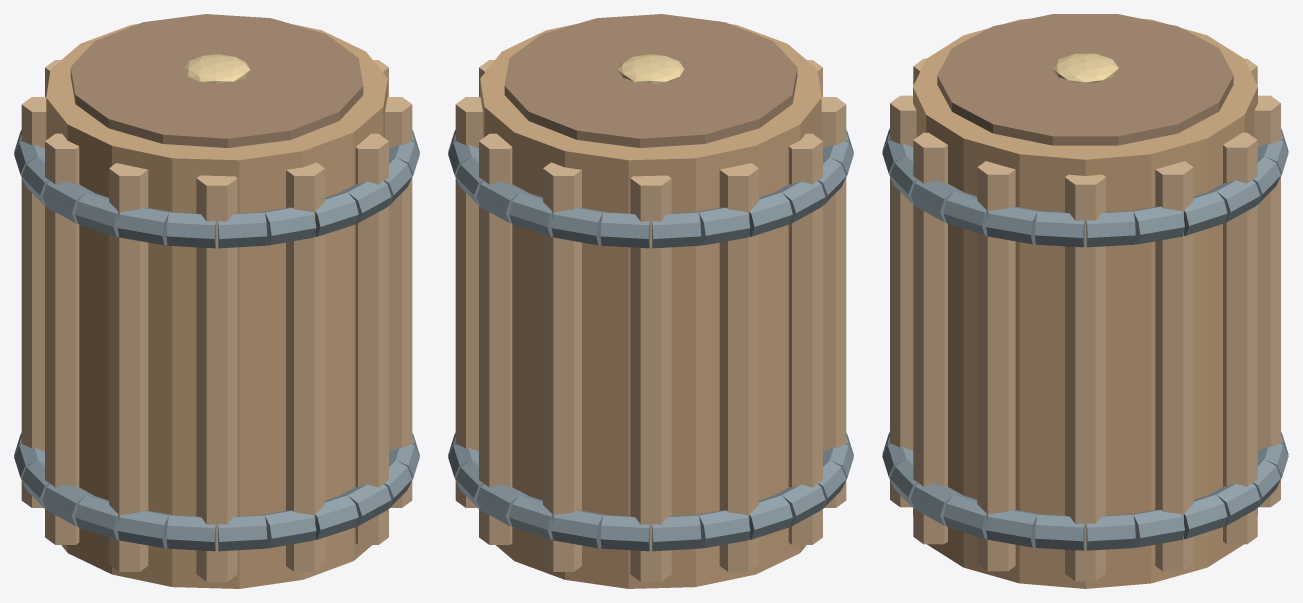
The model's file is salvage_barrel.glb.
3 views of the same model, side by side, from view 1: azimuth 30°, elevation 25°; view 2: azimuth 150°, elevation 25°; view 3: azimuth 270°, elevation 25° (orthographic).
Visible parts, largest first — view 1: salvage_barrel_wood_honey, salvage_barrel_wood_mid, salvage_barrel_wood_bark, salvage_barrel_iron, salvage_barrel_bronze; view 2: salvage_barrel_wood_honey, salvage_barrel_wood_mid, salvage_barrel_wood_bark, salvage_barrel_iron, salvage_barrel_bronze; view 3: salvage_barrel_wood_honey, salvage_barrel_wood_mid, salvage_barrel_wood_bark, salvage_barrel_iron, salvage_barrel_bronze.
Part boxes in pixels (x1=…): salvage_barrel_wood_honey: x1=21, y1=60, x2=412, y2=581; salvage_barrel_wood_mid: x1=46, y1=24, x2=387, y2=588; salvage_barrel_wood_bark: x1=70, y1=14, x2=363, y2=147; salvage_barrel_iron: x1=14, y1=130, x2=419, y2=551; salvage_barrel_bronze: x1=184, y1=54, x2=250, y2=84; salvage_barrel_wood_honey: x1=455, y1=60, x2=846, y2=581; salvage_barrel_wood_mid: x1=480, y1=24, x2=821, y2=588; salvage_barrel_wood_bark: x1=504, y1=14, x2=797, y2=147; salvage_barrel_iron: x1=448, y1=130, x2=853, y2=551; salvage_barrel_bronze: x1=617, y1=54, x2=683, y2=84; salvage_barrel_wood_honey: x1=890, y1=58, x2=1280, y2=581; salvage_barrel_wood_mid: x1=913, y1=18, x2=1257, y2=588; salvage_barrel_wood_bark: x1=937, y1=14, x2=1233, y2=145; salvage_barrel_iron: x1=882, y1=128, x2=1288, y2=550; salvage_barrel_bronze: x1=1052, y1=53, x2=1118, y2=82.
Bounding box in the file's own units: 0.7894 × 0.973 × 0.7894.
